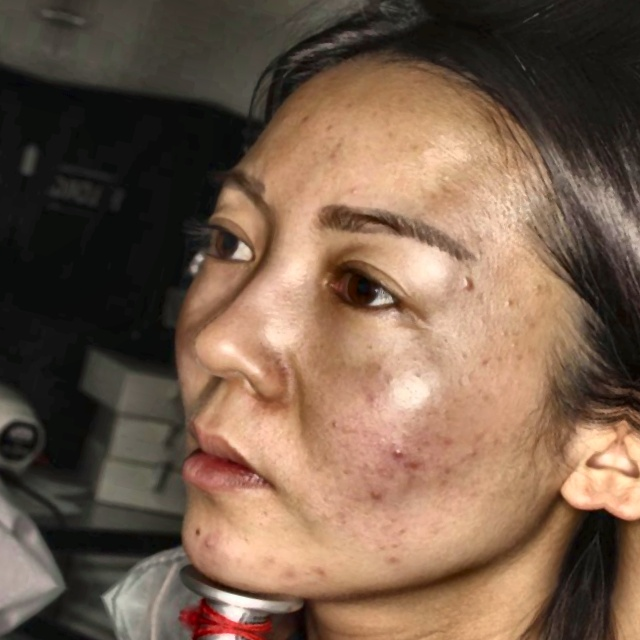comedone: (350, 478, 391, 523), (377, 438, 421, 471), (274, 560, 307, 594), (191, 528, 219, 561)
